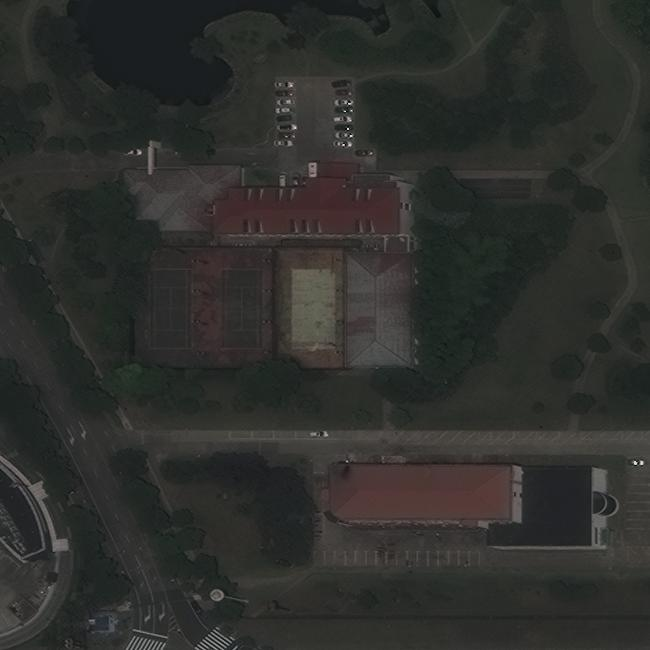parking lot: (321, 549, 483, 568), (330, 75, 354, 151), (270, 77, 294, 153), (626, 457, 648, 528)
